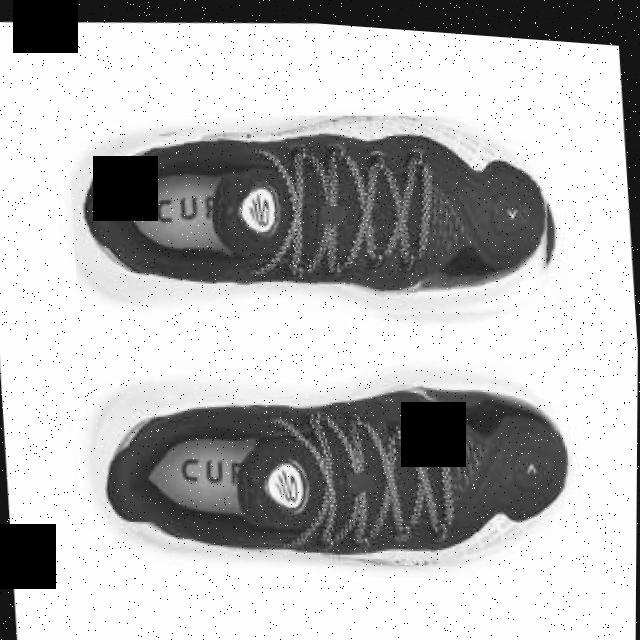shoe: (65, 79, 564, 349), (83, 323, 580, 591)
